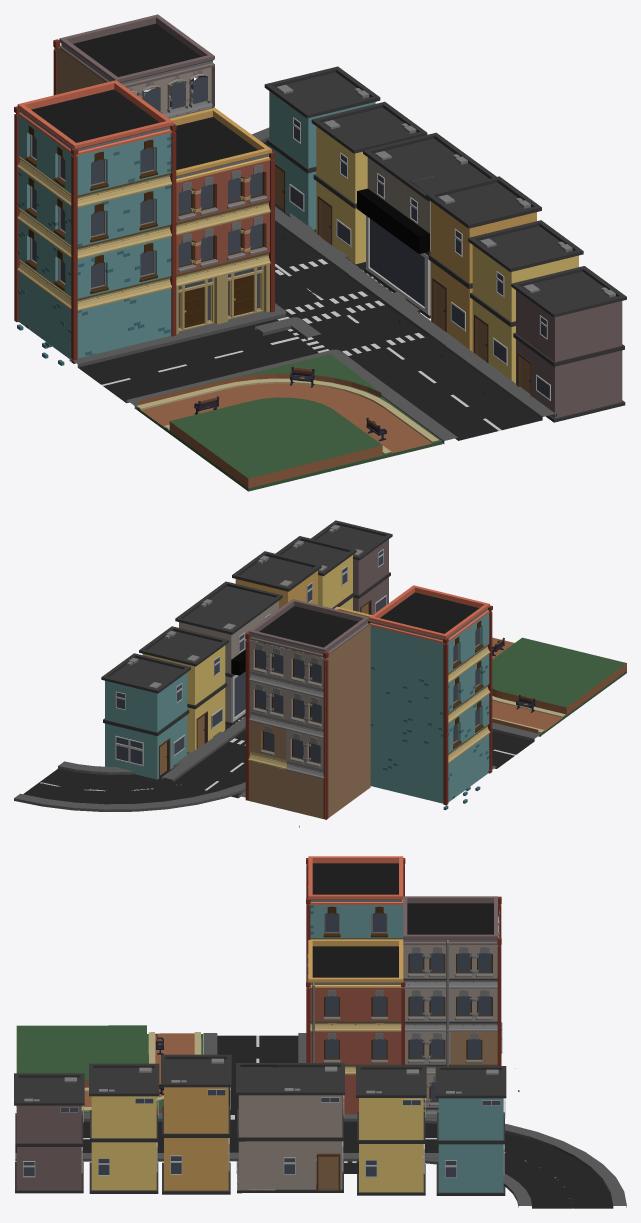
File: lowpolyintersection.gltf
3 renders of one model, top to bottom at view 1: azimuth 30°, elevation 25°; view 2: azimuth 150°, elevation 25°; view 3: azimuth 270°, elevation 25°, orthographic. The views are drawn at different scales.
Parts seen in each view (by area): view 1: building, park road, Cube.005, Cube.002, straight road, straight road.001, T juntion, Cube.003, Cube.004, Cube.001, Cube, Intersection (+1 smaller); view 2: building, Cube, park road, Curved road, Cube.002, Cube.001, Cube.005, straight road.002, Cube.003, Cube.004, straight road.001; view 3: building, Cube.002, Cube.003, Cube.004, Cube, Cube.001, Cube.005, park road, Curved road, straight road.001, straight road.002, straight road (+1 smaller).
Part boxes in pixels (x1,y1,x2,y2): building: [14, 14, 275, 365]; park road: [136, 354, 442, 491]; Cube.005: [484, 266, 626, 422]; Cube.002: [357, 132, 496, 318]; straight road: [350, 342, 556, 443]; straight road.001: [69, 317, 298, 408]; T juntion: [238, 271, 459, 368]; Cube.003: [399, 176, 541, 351]; Cube.004: [441, 220, 583, 383]; Cube.001: [284, 101, 427, 264]; Cube: [264, 66, 380, 232]; Intersection: [255, 238, 420, 340]; building: [245, 585, 492, 827]; Cube: [101, 653, 202, 779]; park road: [492, 637, 626, 735]; Curved road: [14, 746, 245, 811]; Cube.002: [175, 581, 282, 724]; Cube.001: [139, 626, 240, 753]; Cube.005: [311, 520, 392, 614]; straight road.002: [162, 722, 249, 800]; Cube.003: [232, 551, 321, 652]; Cube.004: [275, 536, 356, 610]; straight road.001: [488, 722, 540, 773]; building: [306, 856, 519, 1114]; Cube.002: [236, 1063, 344, 1193]; Cube.003: [161, 1054, 231, 1194]; Cube.004: [89, 1063, 159, 1193]; Cube: [435, 1066, 506, 1195]; Cube.001: [356, 1065, 426, 1195]; Cube.005: [14, 1073, 84, 1193]; park road: [16, 1025, 203, 1112]; Curved road: [425, 1119, 626, 1208]; straight road.001: [203, 1033, 306, 1104]; straight road.002: [343, 1114, 438, 1161]; straight road: [15, 1113, 163, 1161].
Bounding box in the file's own units: 50.33 × 26.46 × 75.45.
